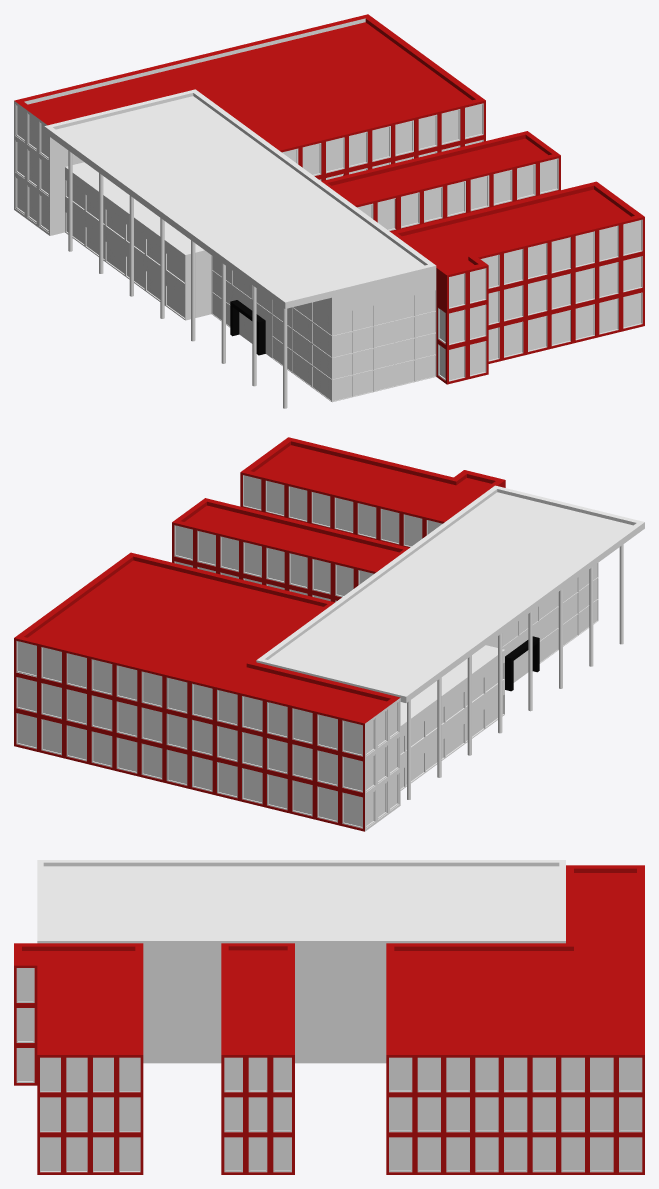
3 views of the same model, one above another, from view 1: azimuth 30°, elevation 25°; view 2: azimuth 150°, elevation 25°; view 3: azimuth 270°, elevation 25° (orthographic). The views are drawn at different scales.
Parts seen in each view (by area): view 1: Box001; view 2: Box001; view 3: Box001.
Part boxes in pixels (x1,y1,x2,y2): Box001: [14, 14, 644, 408]; Box001: [14, 437, 644, 831]; Box001: [14, 860, 644, 1174].
Bounding box in the file's own units: 136 × 42.14 × 188.
